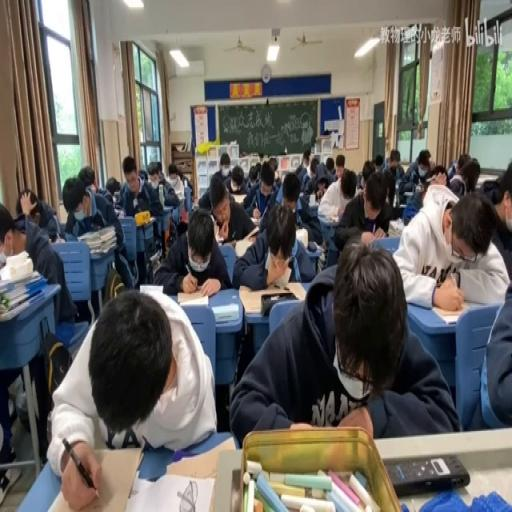calculator: (126, 469, 214, 512), (163, 434, 234, 480), (238, 280, 305, 313), (0, 292, 39, 322), (0, 268, 40, 292), (430, 304, 464, 322), (370, 234, 399, 254), (212, 302, 238, 322), (176, 290, 209, 304), (294, 224, 308, 248), (475, 174, 496, 189), (139, 284, 165, 296), (386, 218, 402, 236), (148, 249, 161, 269), (138, 213, 156, 226), (229, 193, 246, 205), (113, 206, 125, 219), (322, 215, 338, 223), (51, 235, 65, 243), (398, 202, 408, 213), (308, 194, 316, 206), (250, 216, 260, 225), (404, 190, 414, 198)
paper: (230, 248, 454, 442), (48, 286, 215, 509), (393, 182, 508, 309), (64, 172, 132, 294), (462, 270, 510, 428), (233, 199, 314, 289), (154, 205, 230, 296), (333, 165, 397, 256), (479, 154, 512, 234), (14, 186, 60, 242), (144, 165, 170, 250), (400, 146, 431, 204), (222, 156, 246, 194), (280, 169, 301, 212), (302, 156, 324, 196), (165, 162, 186, 202), (382, 150, 404, 186), (77, 165, 97, 196), (424, 162, 446, 189), (340, 172, 356, 202), (104, 175, 121, 202), (360, 158, 375, 188), (448, 174, 466, 196), (246, 164, 260, 188), (334, 154, 346, 180), (456, 152, 470, 172), (446, 158, 458, 179), (267, 155, 277, 176), (325, 155, 334, 178), (154, 160, 164, 180), (373, 154, 383, 172), (138, 168, 148, 182), (182, 175, 191, 188), (304, 150, 310, 164), (274, 175, 280, 188), (384, 156, 390, 168), (428, 160, 435, 170)
person: (386, 452, 470, 494), (307, 240, 318, 252)
